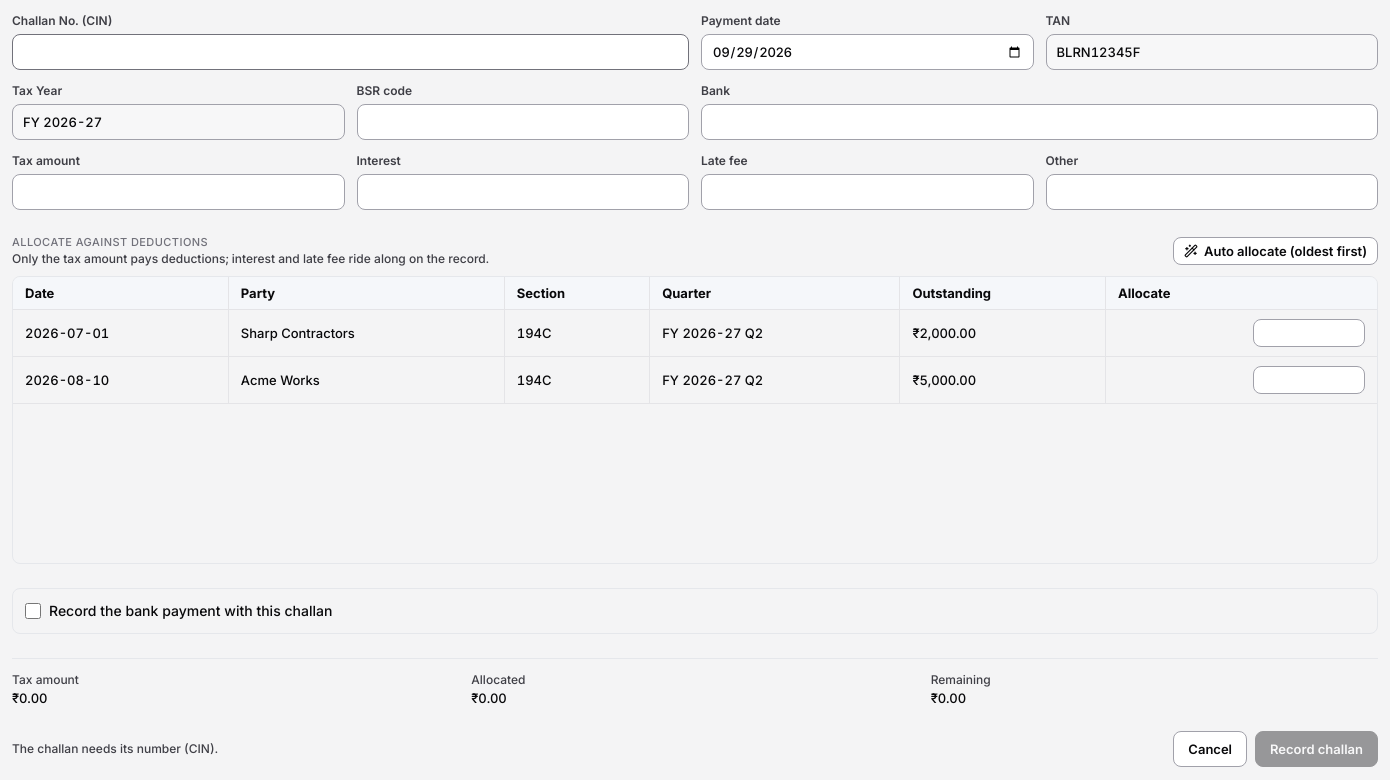
Scenario: saving › needs a number and a non-zero tax amount before it will save
Expected: the button "Record challan" is disabled, [1255,731,1378,767]
Type "CHL-X" into the field labelled "Challan No. (CIN)" at (350, 52), box [12,34,689,70]
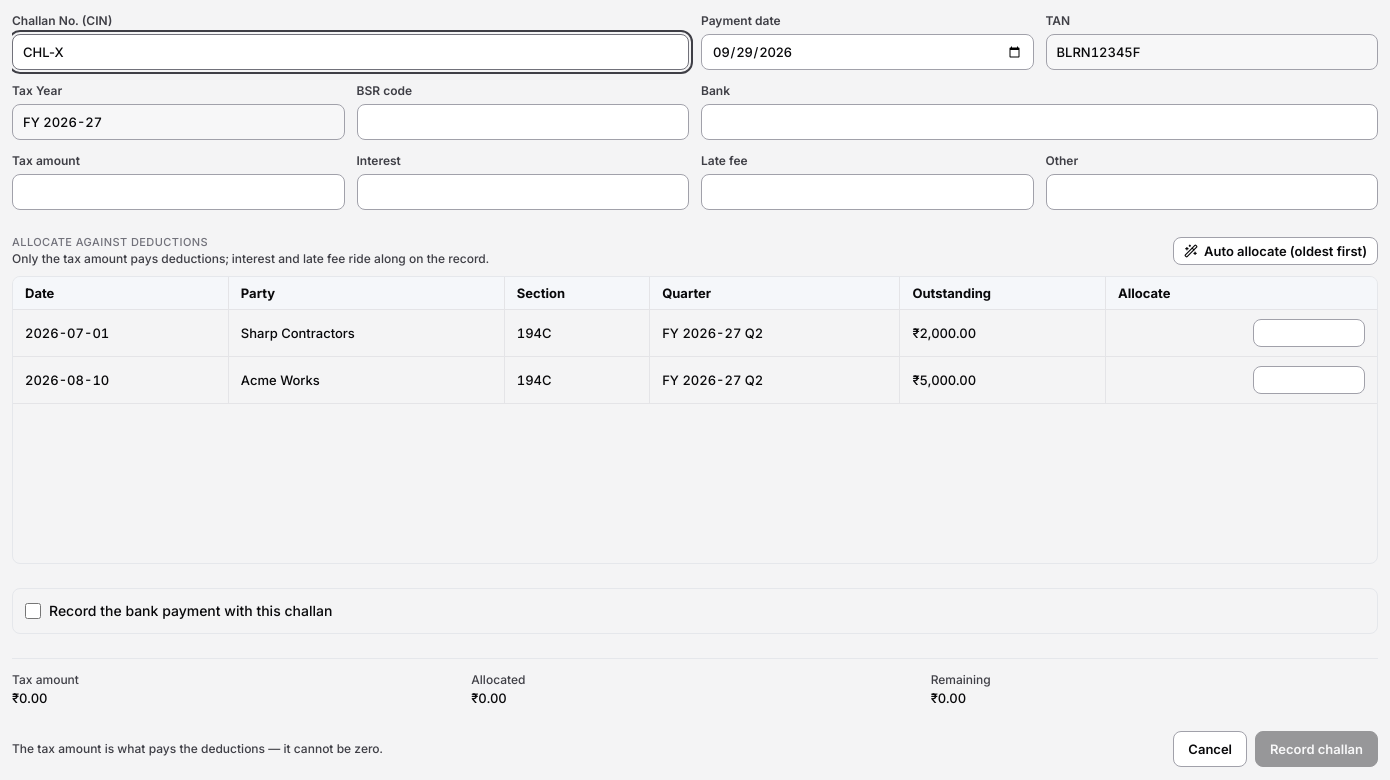
Expected: the button "Record challan" is disabled, [1255,731,1378,767]
Type "100" into the number field labelled "Tax amount" at (178, 192), box [12,174,344,210]
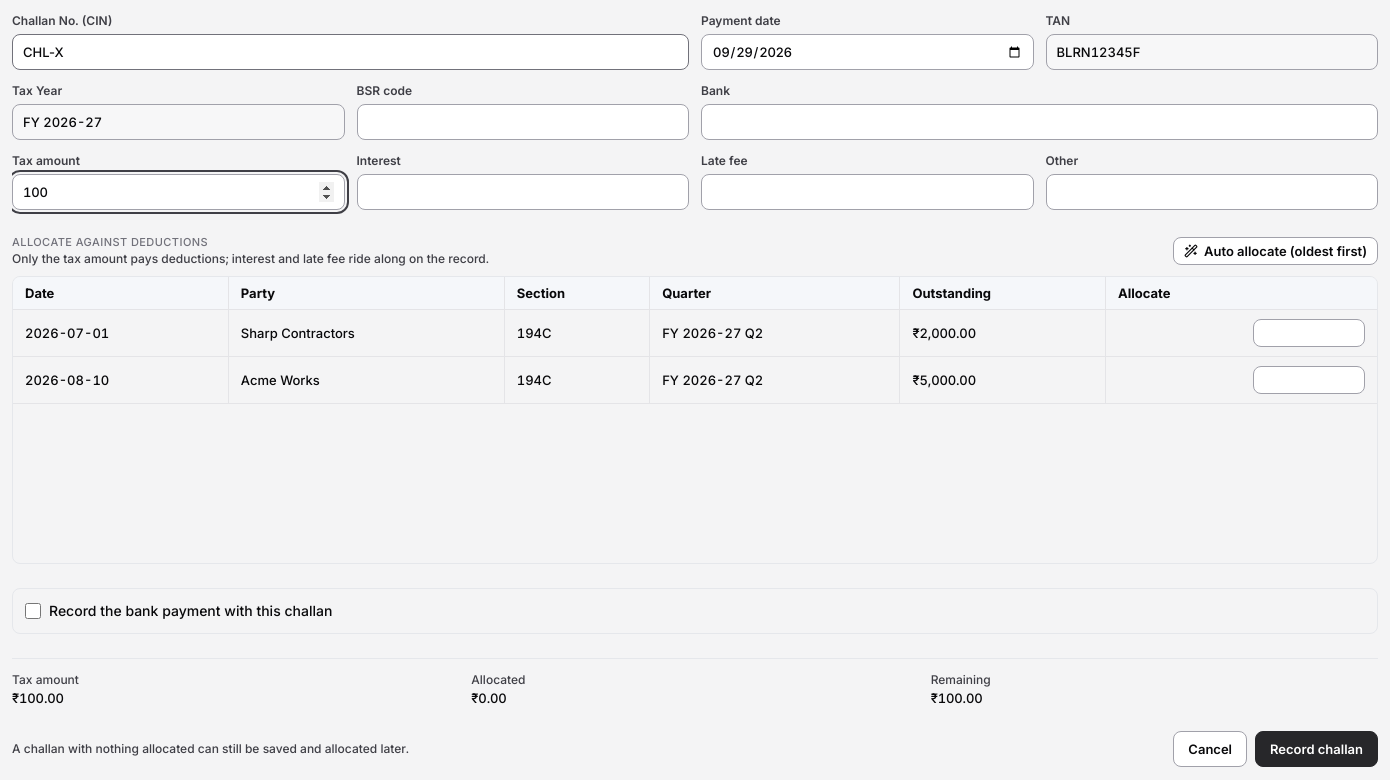
Expected: the button "Record challan" is enabled, [1255,731,1378,767]
